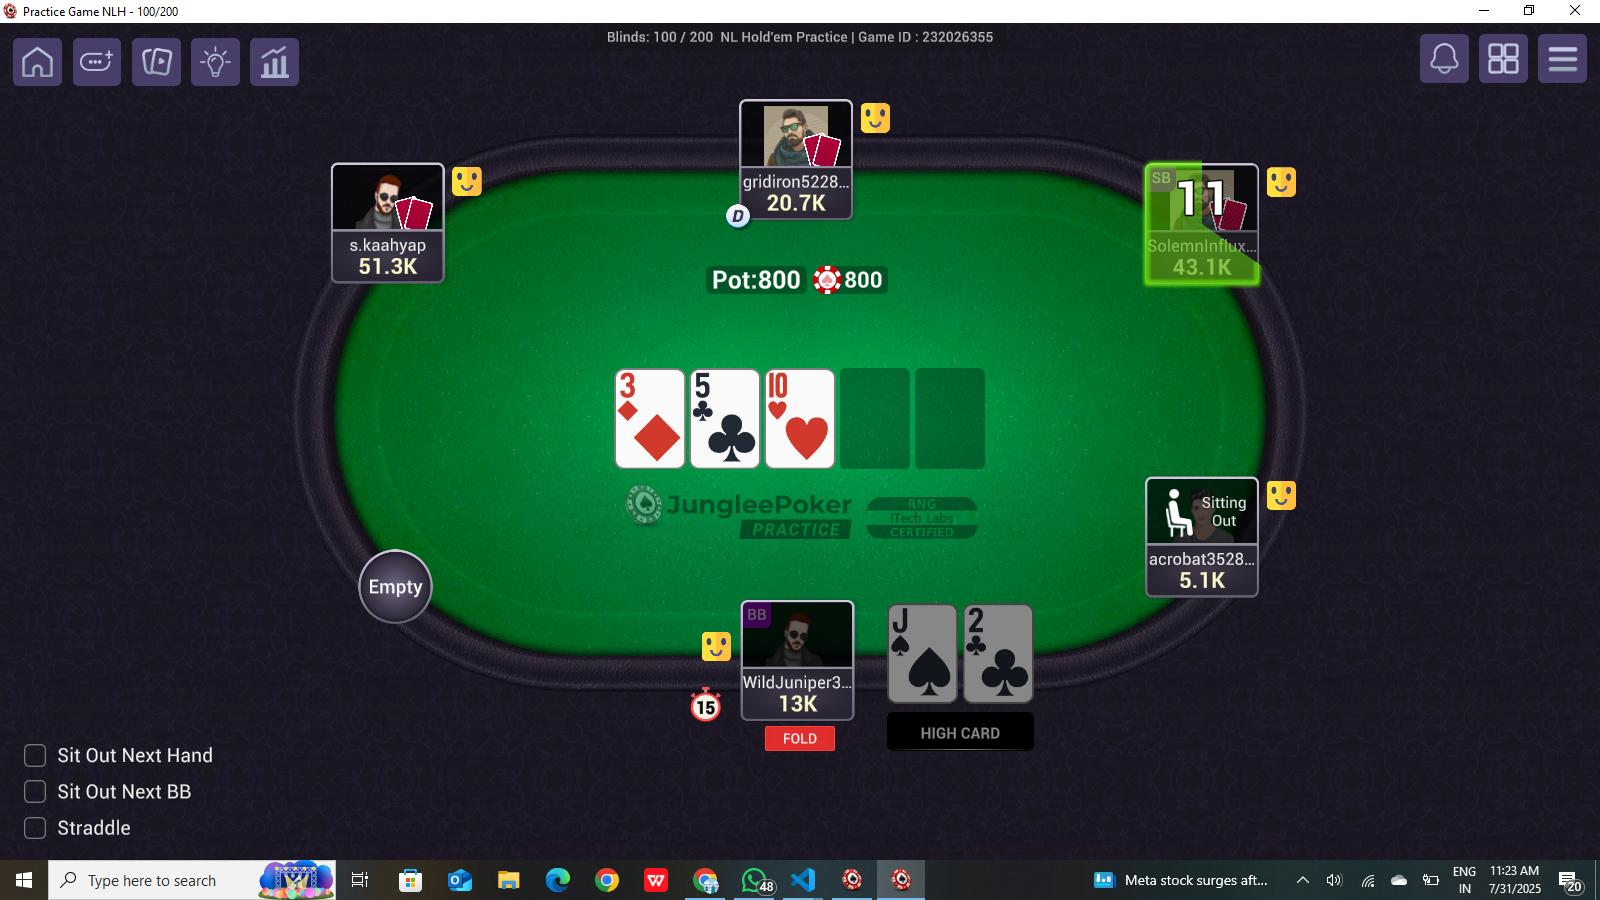card1_rank: (886, 601, 942, 644)
card1_suite_spades: (904, 645, 957, 703)
card2_rank: (964, 604, 1033, 644)
card2_suite_club: (982, 641, 1031, 699)
flop1_rank: (618, 367, 686, 409)
flop1_suite_diamond: (627, 409, 684, 465)
flop2_rank: (692, 368, 758, 407)
flop2_suite_club: (704, 409, 756, 466)
flop3_rank: (764, 367, 825, 409)
flop3_suite_heart: (776, 404, 833, 466)
game_id: (848, 24, 1000, 54)
my_stack: (740, 685, 856, 720)
position_BB: (742, 599, 777, 632)
position_SB: (1146, 168, 1174, 193)
total_pot: (710, 263, 891, 297)
villian2_name: (332, 233, 448, 257)
villian2_stack: (334, 253, 445, 282)
villian3_name: (740, 167, 852, 190)
villian3_stack: (748, 189, 855, 220)
villian4_name: (1146, 224, 1256, 259)
villian4_stack: (1148, 246, 1257, 286)
villian5_name: (1148, 543, 1257, 571)
villian5_stack: (1148, 560, 1252, 595)
